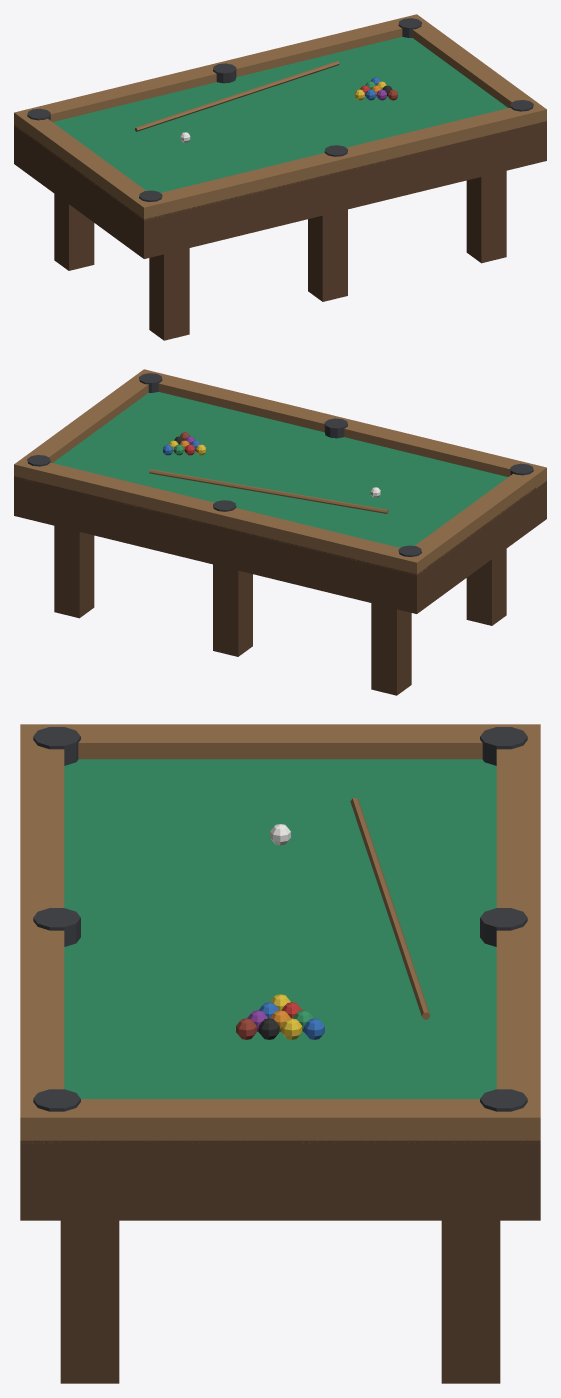
Rendered from pool_table.glb.
The picture shows the model from 3 angles, top to bottom: view 1: azimuth 30°, elevation 25°; view 2: azimuth 150°, elevation 25°; view 3: azimuth 270°, elevation 25°; orthographic projection. The views are drawn at different scales.
Parts seen in each view (by area): view 1: pool_table; view 2: pool_table; view 3: pool_table.
Boxes of the visible parts, box(x1,y1,x2,y2) form: pool_table: box(14, 14, 546, 340); pool_table: box(14, 369, 546, 695); pool_table: box(20, 724, 540, 1383).
Size of the model in its own units: 2.54 by 0.9 by 1.42.
